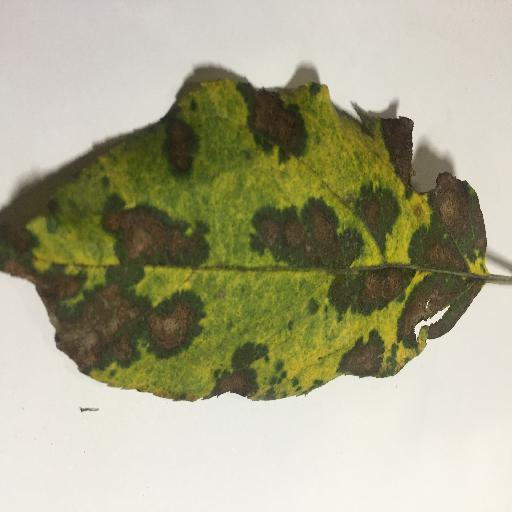Brown_Spot: (9, 197, 172, 372), (367, 117, 479, 353), (313, 284, 424, 379), (230, 76, 309, 157), (247, 207, 350, 266), (204, 342, 260, 395), (152, 110, 191, 181)
